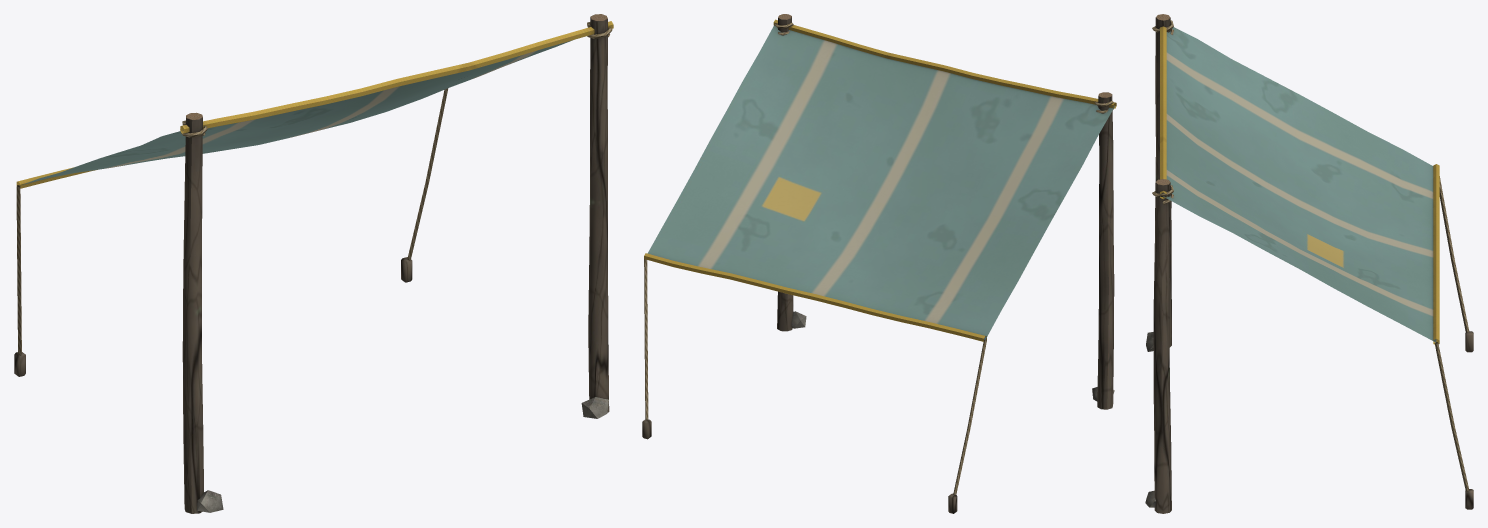
Rendered from fm_rain_awning_tarp.glb.
3 views of the same model, side by side, from view 1: azimuth 30°, elevation 25°; view 2: azimuth 150°, elevation 25°; view 3: azimuth 270°, elevation 25° (orthographic). The views are drawn at different scales.
Visible parts, largest first — view 1: fm_rain_awning_tarp; view 2: fm_rain_awning_tarp; view 3: fm_rain_awning_tarp.
Boxes of the visible parts, bbox=[...] form: fm_rain_awning_tarp: bbox=[14, 14, 613, 513]; fm_rain_awning_tarp: bbox=[642, 14, 1116, 513]; fm_rain_awning_tarp: bbox=[1145, 14, 1473, 513].
Size of the model in its own units: 2.02 by 1.76 by 1.59.
Materials: 1 (1 with a texture image).
